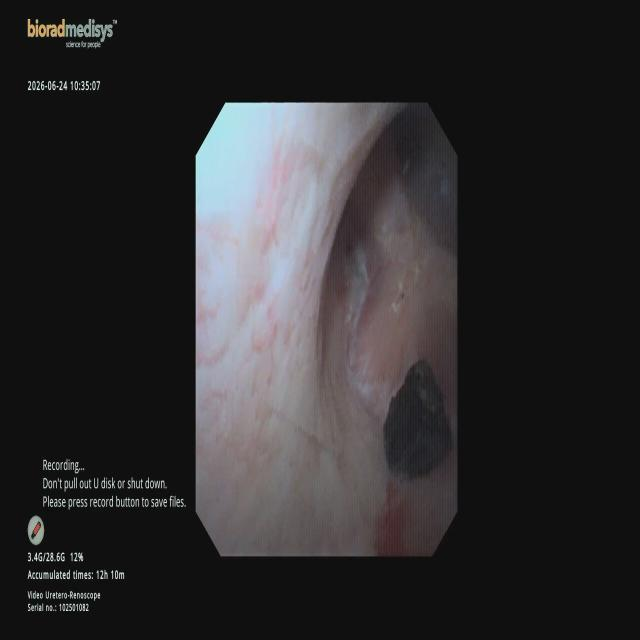stone-new: (384, 360, 451, 479)
